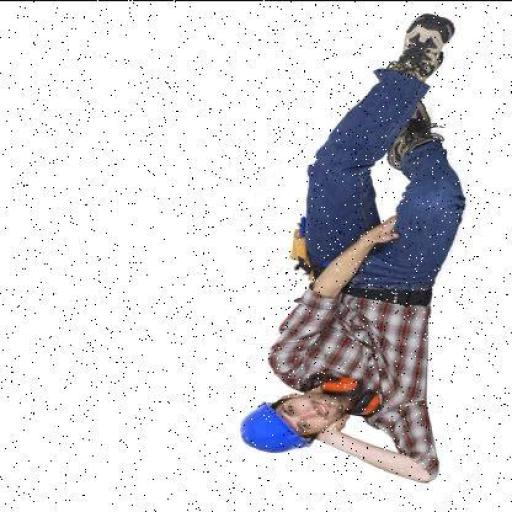safety_shoe: (379, 15, 463, 77), (386, 98, 440, 165)
